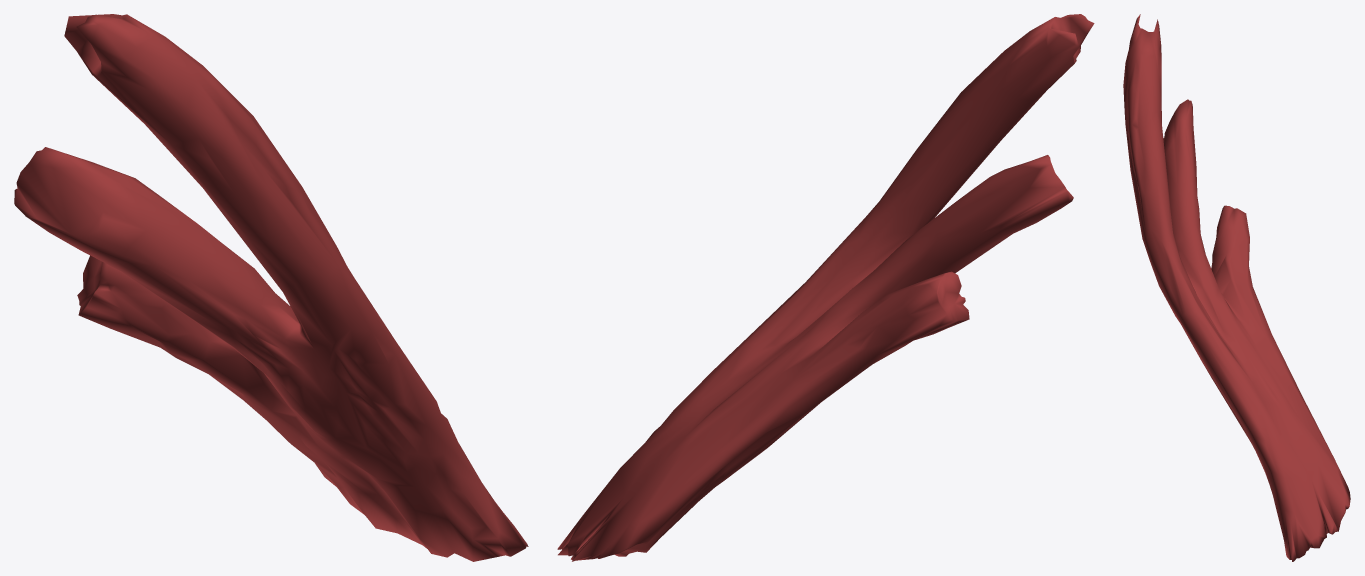
File: scalenus-posterior-muscle-l.glb
3 views of the same model, side by side, from view 1: azimuth 30°, elevation 25°; view 2: azimuth 150°, elevation 25°; view 3: azimuth 270°, elevation 25° (orthographic). The views are drawn at different scales.
Visible parts, largest first — view 1: Scalenus posterior muscle.l; view 2: Scalenus posterior muscle.l; view 3: Scalenus posterior muscle.l.
Part boxes in pixels (<box>): Scalenus posterior muscle.l: <box>14,14,528,561</box>; Scalenus posterior muscle.l: <box>557,14,1094,561</box>; Scalenus posterior muscle.l: <box>1123,14,1350,561</box>.
Bounding box in the file's own units: 0.0442 × 0.0536 × 0.0275.
